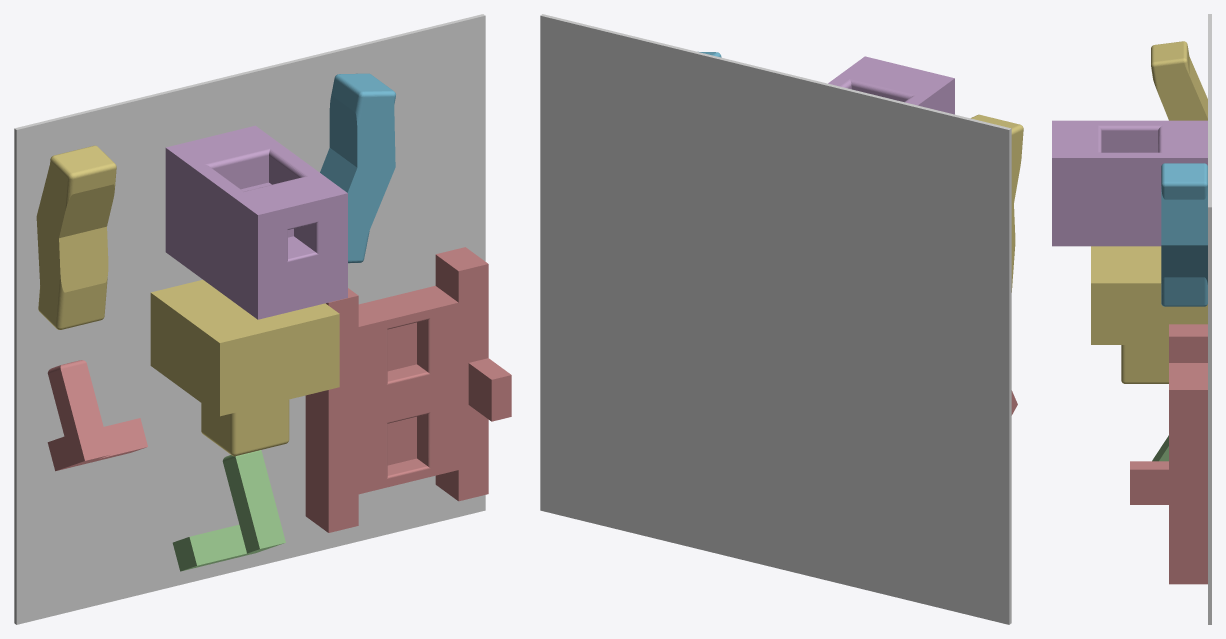
File: pickup_layout.glb
The picture shows the model from 3 angles, left to right: view 1: azimuth 30°, elevation 25°; view 2: azimuth 150°, elevation 25°; view 3: azimuth 270°, elevation 25°; orthographic projection. The views are drawn at different scales.
Visible parts, largest first — view 1: world, 0.obj, 3.obj, 6.obj, 1.obj, 2.obj, 4.obj, 5.obj; view 2: world, 3.obj, 1.obj; view 3: 3.obj, 0.obj, 6.obj, 2.obj, 1.obj, world, 4.obj.
Part boxes in pixels (bbox=[...]): world: bbox=[14, 14, 485, 624]; 0.obj: bbox=[305, 247, 511, 532]; 3.obj: bbox=[165, 125, 347, 319]; 6.obj: bbox=[150, 279, 339, 456]; 1.obj: bbox=[36, 145, 116, 329]; 2.obj: bbox=[320, 73, 395, 263]; 4.obj: bbox=[172, 450, 285, 571]; 5.obj: bbox=[47, 360, 147, 471]; world: bbox=[540, 14, 1011, 624]; 3.obj: bbox=[828, 56, 954, 114]; 1.obj: bbox=[971, 114, 1023, 292]; 3.obj: bbox=[1052, 120, 1207, 246]; 0.obj: bbox=[1130, 324, 1207, 584]; 6.obj: bbox=[1091, 246, 1207, 383]; 2.obj: bbox=[1161, 163, 1207, 306]; 1.obj: bbox=[1151, 41, 1207, 120]; world: bbox=[1208, 14, 1211, 624]; 4.obj: bbox=[1152, 435, 1168, 461].
Bounding box in the file's own units: 23.45 × 23.65 × 8.2.
